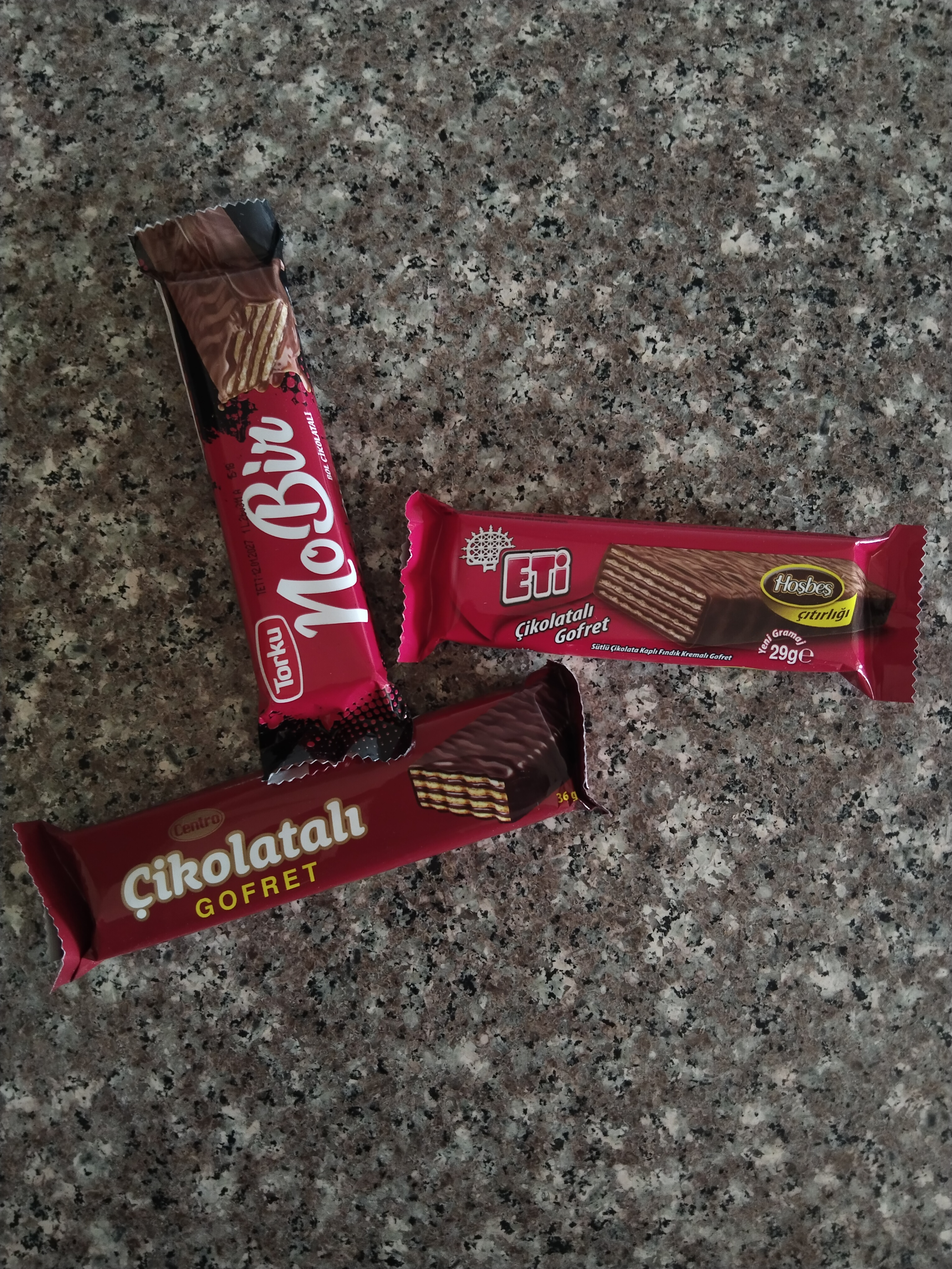centro_gofret: (17, 658, 609, 979)
eti_hosbes_gofret: (401, 497, 925, 696)
torku_nobir_gofret: (137, 194, 415, 784)
